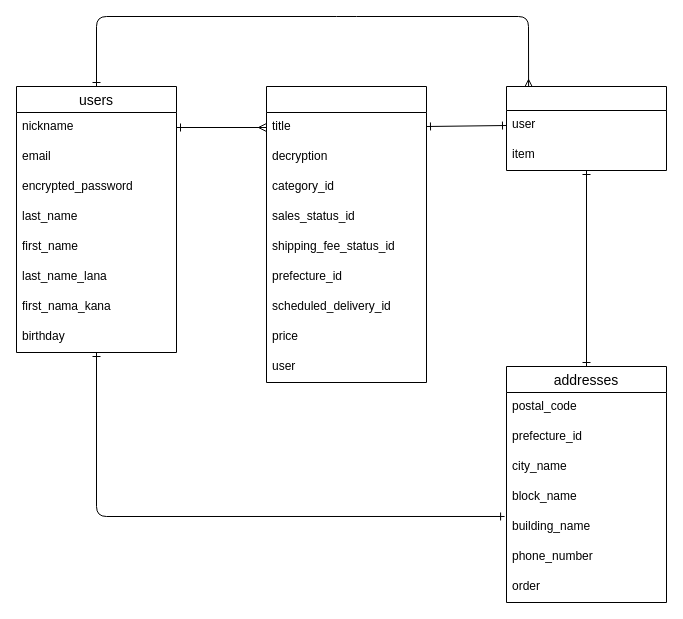
Image size: 683x619. Some labels were removed from this diagram. Here are the shapes that lost their labels. From the top down, the box of each, then its label:
(506, 86, 666, 170): oders
(266, 86, 426, 382): items
